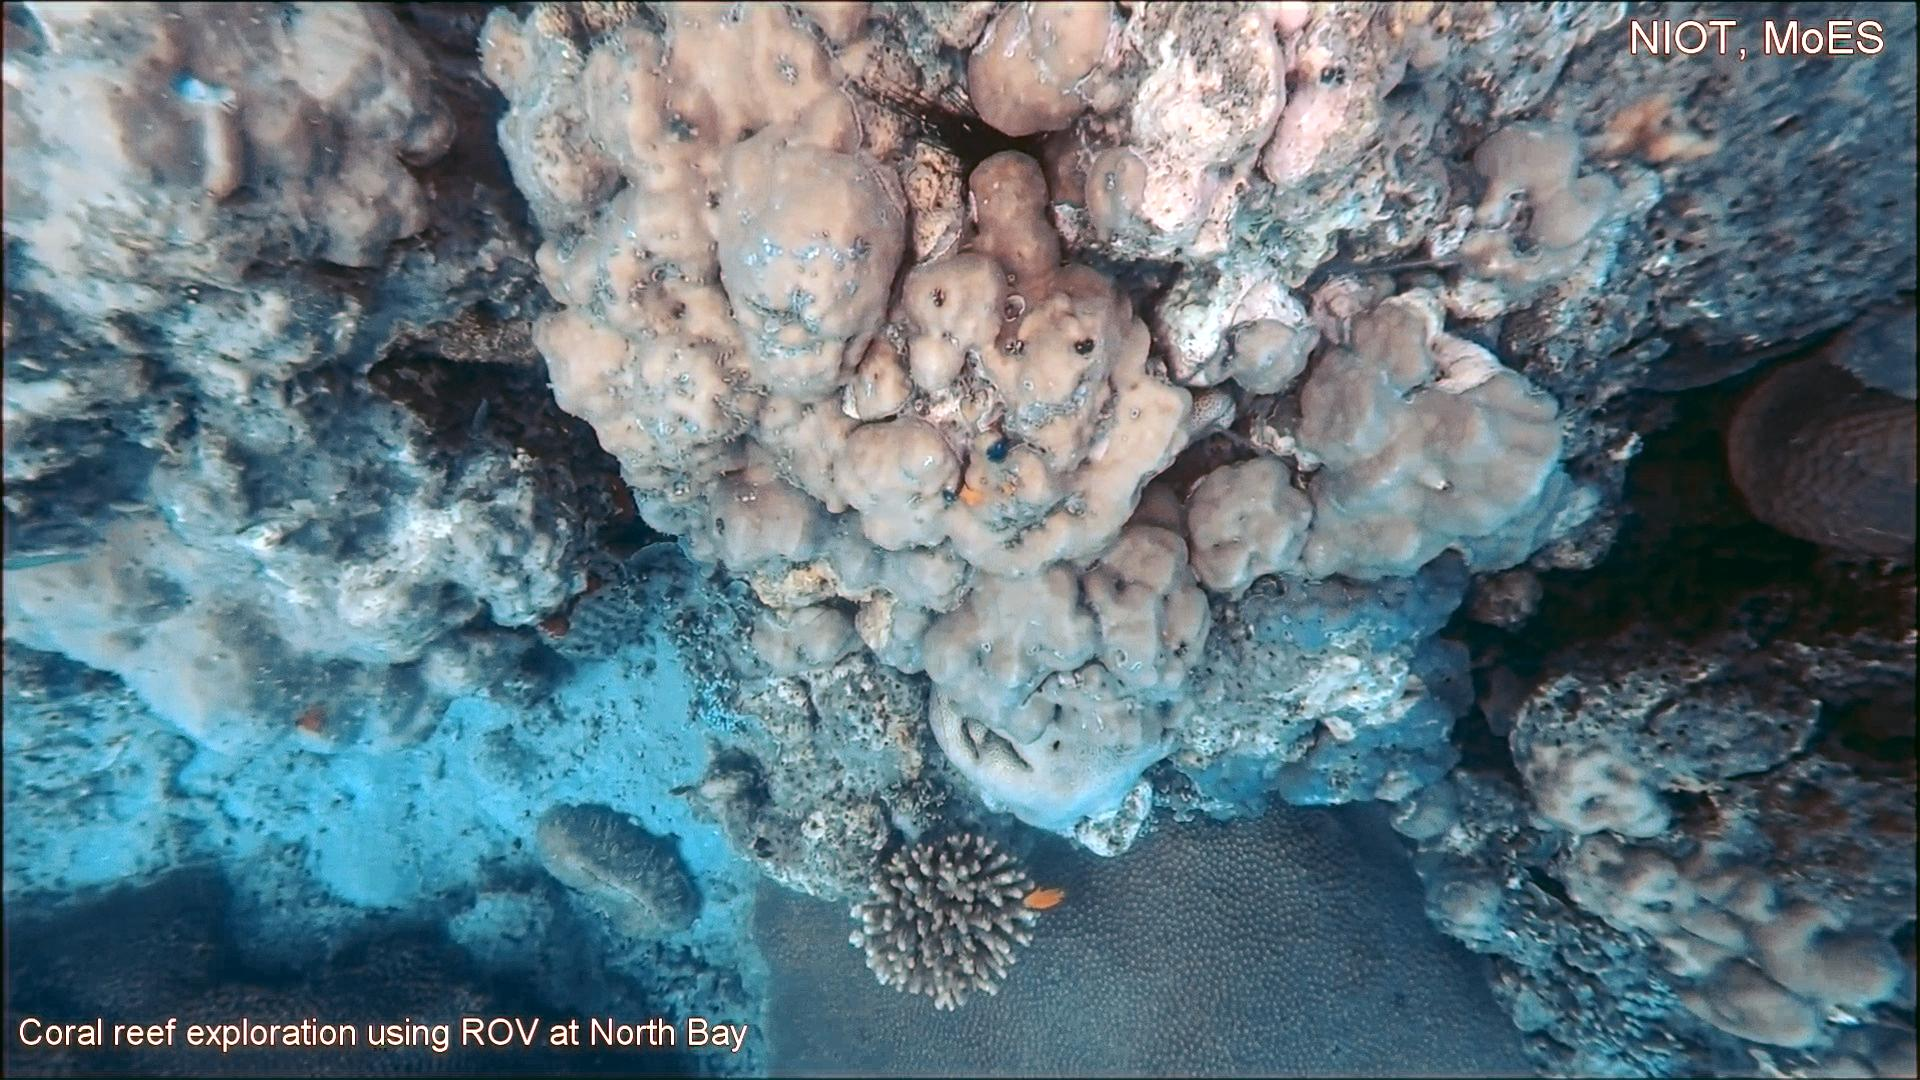Meandrina meandrites: (1716, 351, 1920, 567)
